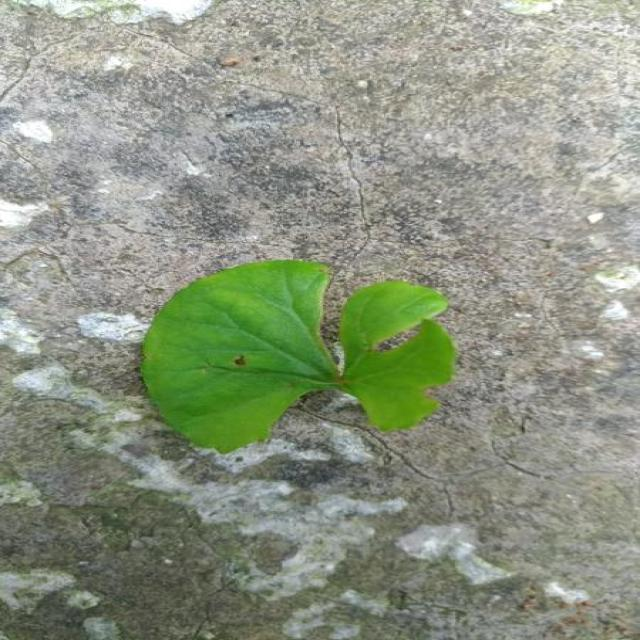defectedbhrami: (143, 260, 455, 452)
